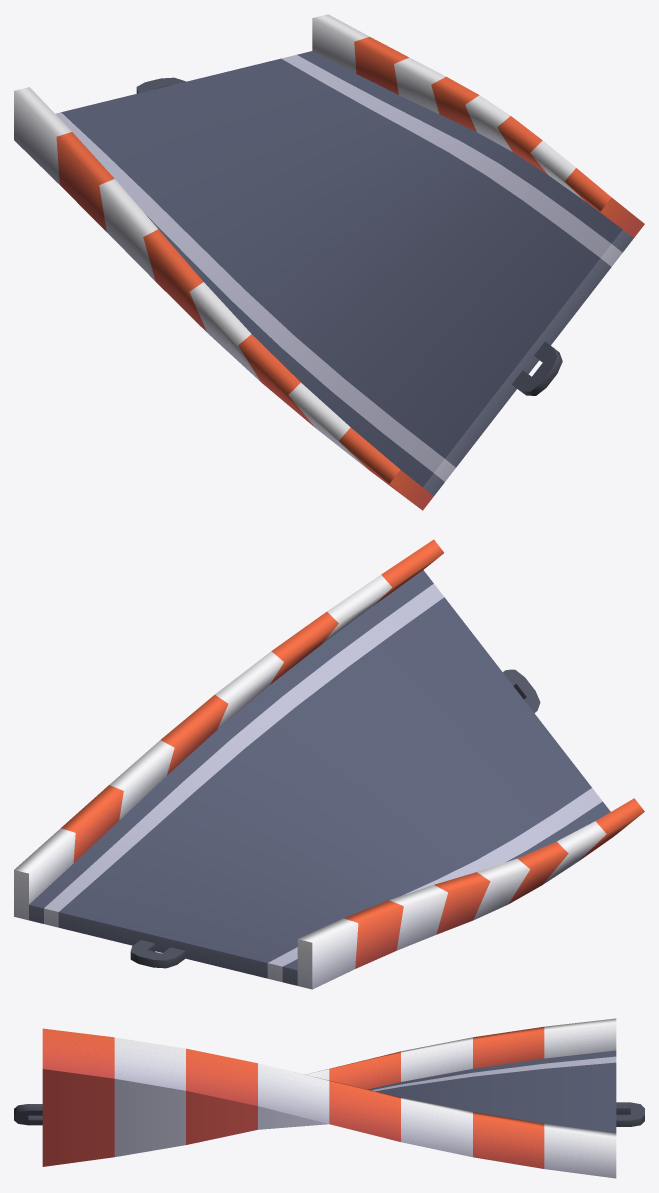
The model's file is track-road-wide-straight-skew-right.glb.
3 views of the same model, one above another, from view 1: azimuth 30°, elevation 25°; view 2: azimuth 150°, elevation 25°; view 3: azimuth 270°, elevation 25° (orthographic). The views are drawn at different scales.
Visible parts, largest first — view 1: track-road-wide-straight-skew-right; view 2: track-road-wide-straight-skew-right; view 3: track-road-wide-straight-skew-right.
Boxes of the visible parts, x1,y1,x2,y2 form: track-road-wide-straight-skew-right: (14,14,644,510); track-road-wide-straight-skew-right: (14,539,644,989); track-road-wide-straight-skew-right: (14,1018,644,1178).
Size of the model in its own units: 6.13 by 4.88 by 13.2.
1 material, 1 textured.
